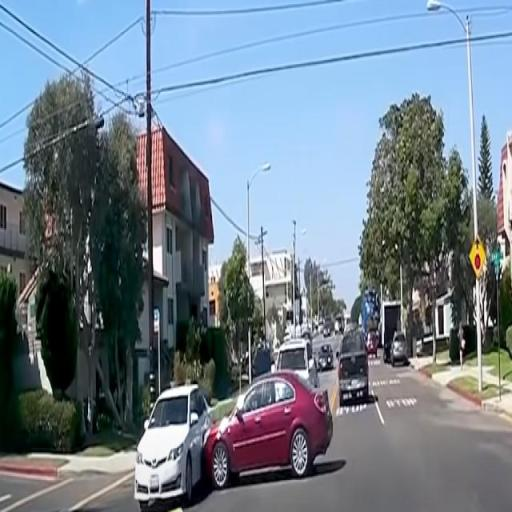小汽车: (337, 342, 374, 408), (388, 328, 415, 368)
小汽车撞小汽车: (140, 371, 329, 509)
